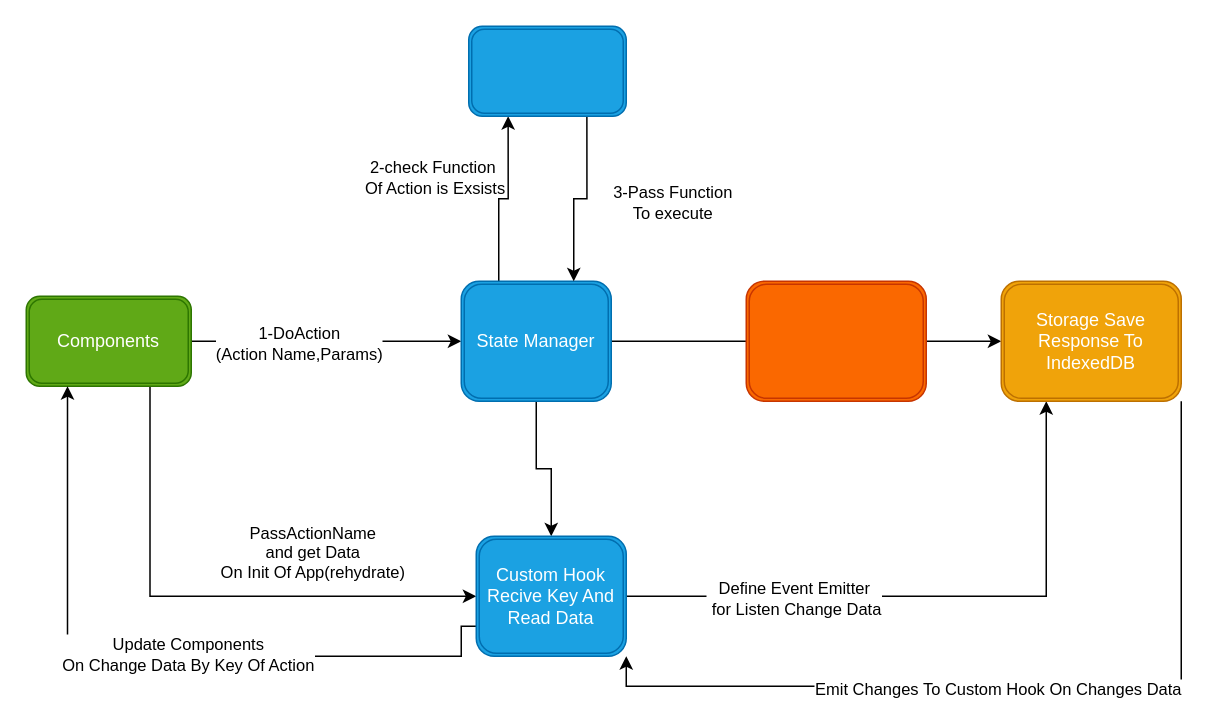
Some shapes in this 1220 by 725 pixel diagram are drawn without their labels. Here are the shapes that lost their labels. From the top down, the centre of each, then its label:
At (x=546, y=70): "Logics".
At (x=835, y=340): "Do Action and Send Response To Storage".
